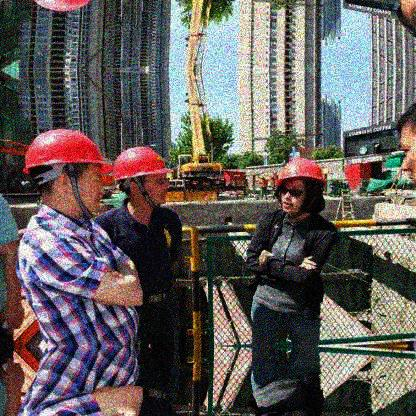helmet: (21, 127, 111, 215), (114, 145, 172, 208), (273, 157, 324, 219), (260, 176, 264, 181), (273, 172, 277, 176)
